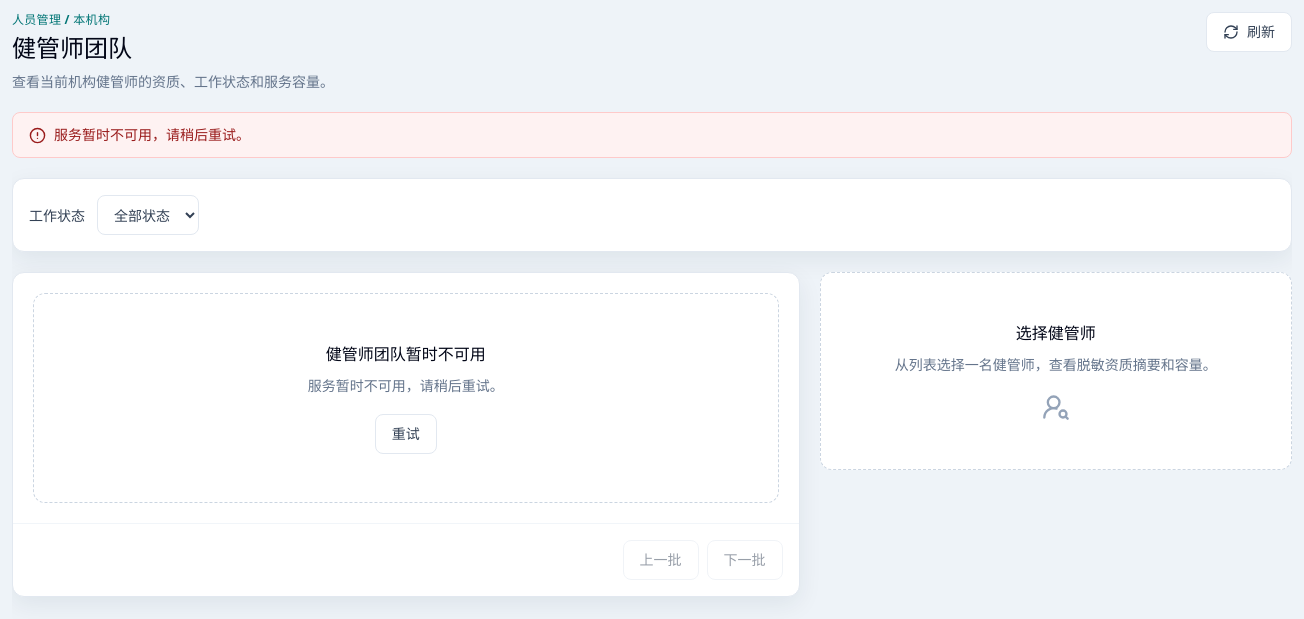
Test: 健管师邀请与资格 › 健管师名单空态说明下一步且503可重试
expect the message shows "服务暂时不可用": met, box [54,125,250,144]
Click the button "重试".
click(406, 434)  # box [375,414,437,454]
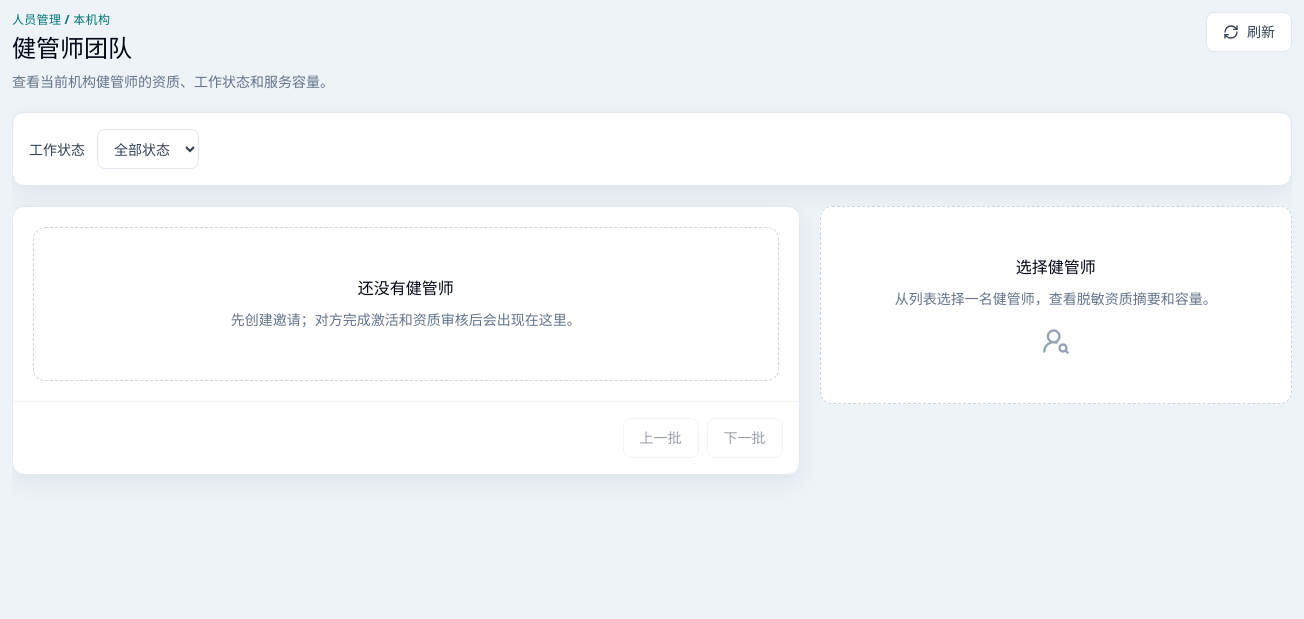
expect the heading "还没有健管师" is shown: met, box [358,277,454,299]
expect the text "先创建邀请；对方完成激活和资质审核后会出现在这里。" is shown: met, box [231,310,581,329]
